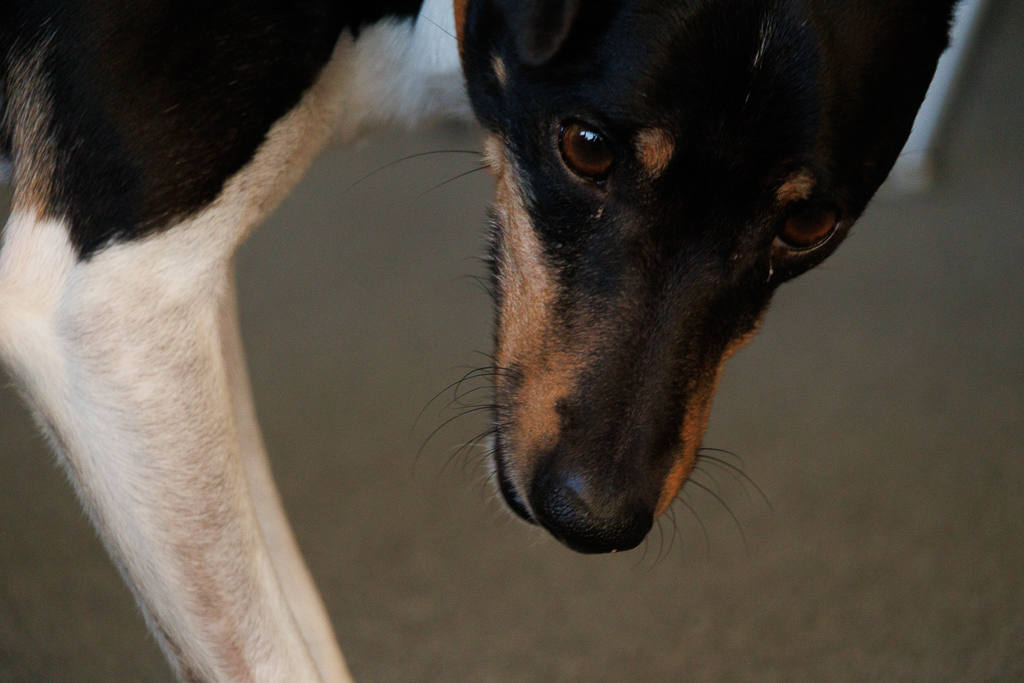Dog: (0, 0, 970, 683)
